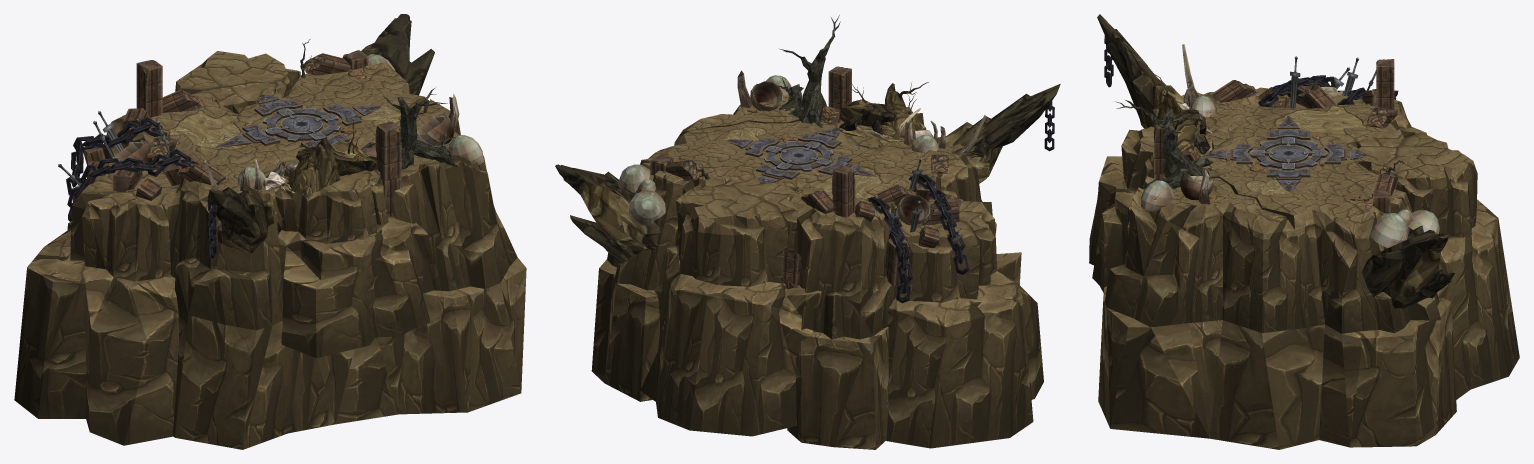
Rendered from Cell1L_R.fbx.
The picture shows the model from 3 angles, left to right: view 1: azimuth 30°, elevation 25°; view 2: azimuth 150°, elevation 25°; view 3: azimuth 270°, elevation 25°; orthographic projection. The views are drawn at different scales.
Visible parts, largest first — view 1: Cell1L_R; view 2: Cell1L_R; view 3: Cell1L_R.
Boxes of the visible parts, left/top/right/bottom form: Cell1L_R: left=14, top=14, right=526, bottom=449; Cell1L_R: left=555, top=15, right=1060, bottom=449; Cell1L_R: left=1089, top=14, right=1519, bottom=449.
Size of the model in its own units: 25.95 by 16.89 by 22.5.
